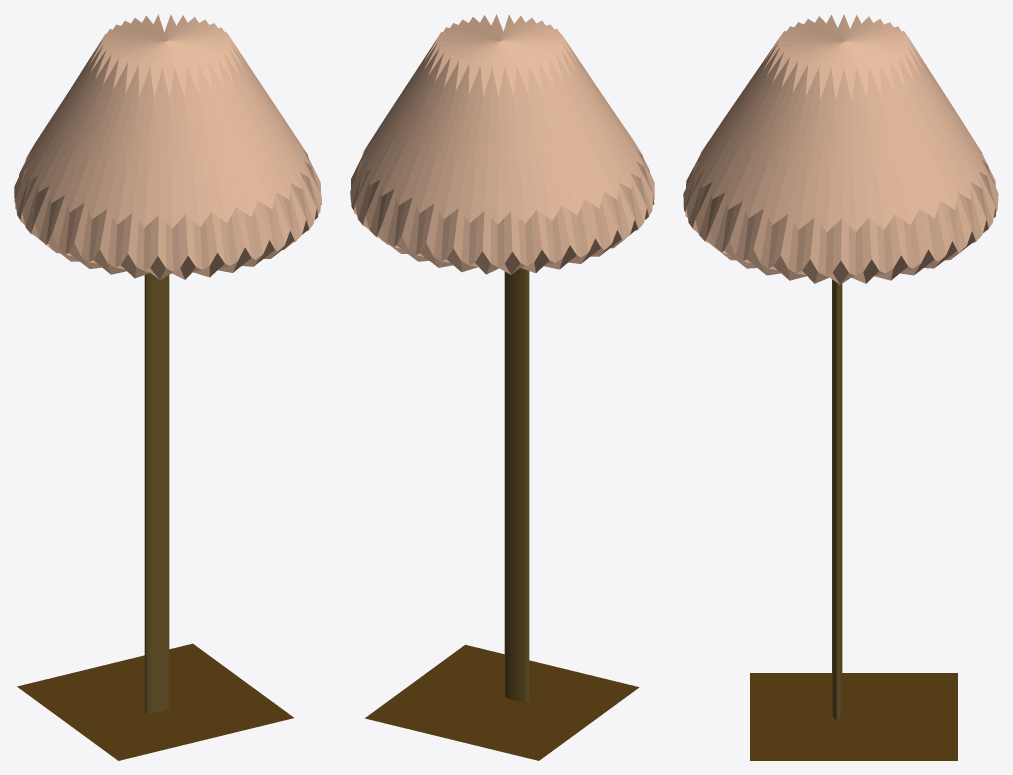
The model's file is lamp 1.fbx.
3 views of the same model, side by side, from view 1: azimuth 30°, elevation 25°; view 2: azimuth 150°, elevation 25°; view 3: azimuth 270°, elevation 25° (orthographic). The views are drawn at different scales.
Parts seen in each view (by area): view 1: Cone.002, Cylinder.002; view 2: Cone.002, Cylinder.002; view 3: Cone.002, Cylinder.002.
Boxes of the visible parts, bbox=[...] form: Cone.002: bbox=[14, 14, 321, 279]; Cylinder.002: bbox=[17, 273, 293, 760]; Cone.002: bbox=[350, 14, 654, 274]; Cylinder.002: bbox=[365, 268, 639, 760]; Cone.002: bbox=[683, 14, 998, 284]; Cylinder.002: bbox=[750, 279, 957, 760].
Bounding box in the file's own units: 303 × 722 × 303.
